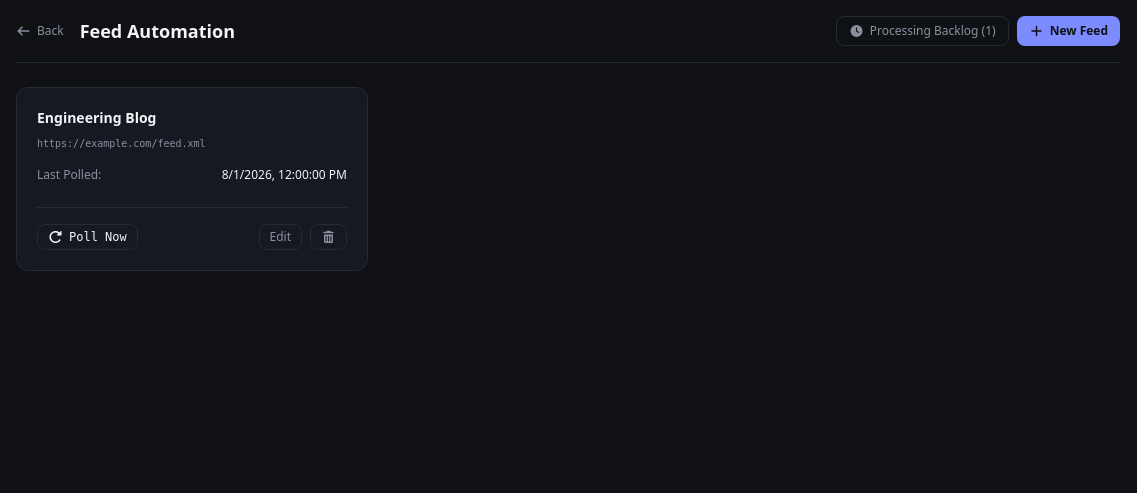
FeedsPanel › renders feeds and toggles the processing backlog
The image size is (1137, 493).
expect the heading "Engineering Blog" is shown: met, box [37,108,156,128]
expect the text "Processing Backlog (1)" is shown: met, box [870,23,996,39]
Click the button "Processing Backlog (1)". click: (922, 31)
box: [836,16,1009,46]
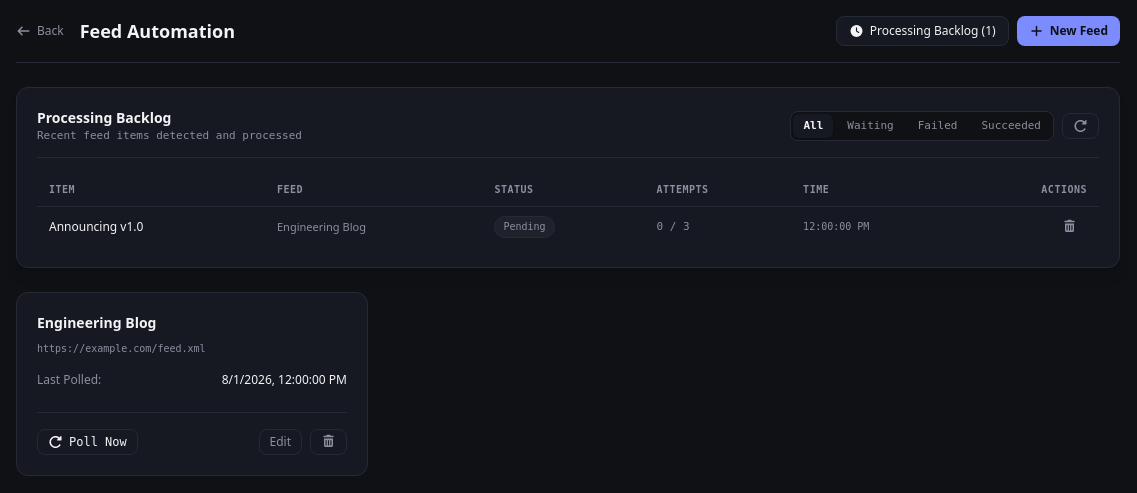
expect the link "Announcing v1.0" is shown: met, box [49,218,143,234]
